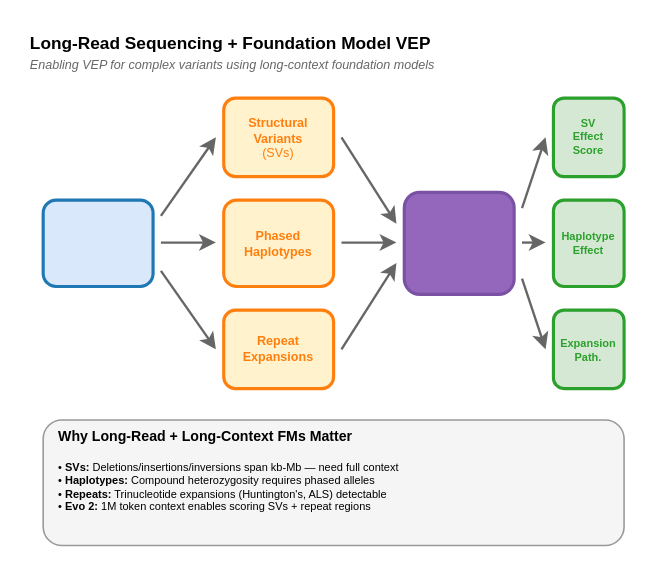
This 652x573 diagram has some shape labels left out. Here are the shapes that lost their labels. From the top down, the centre of each, then its label:
At [97,242]: "Long-Read Sequencing (PacBio/ONT)".
At [458,242]: "Long-Context FM (Evo 2 - 1M)".
